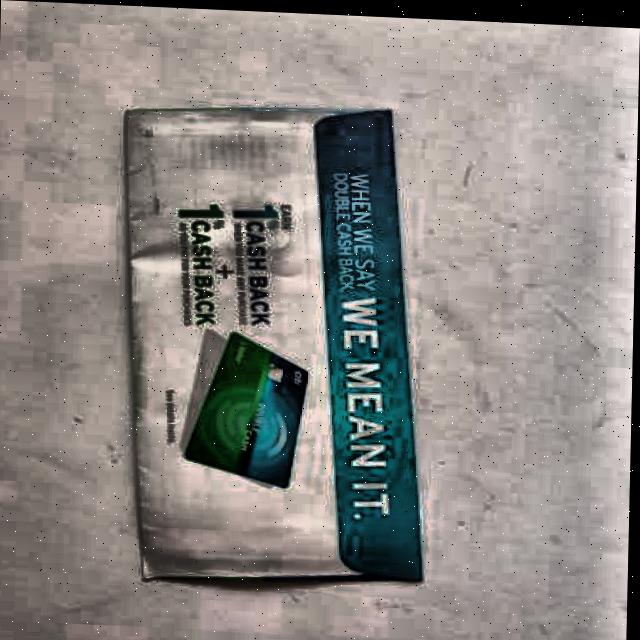paper: (111, 81, 436, 594)
